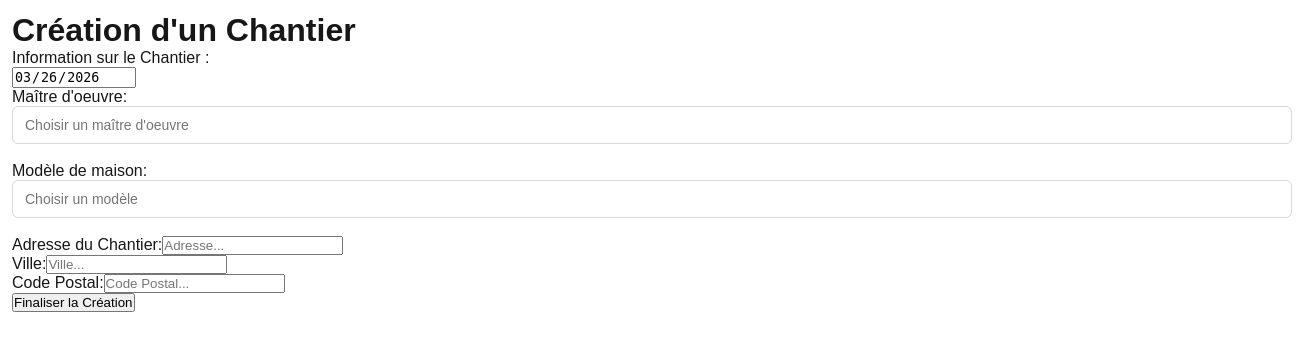
Test: Page de création du chantier › affiche un message d'erreur si champs vide
Click the button "Finaliser la Création": (73, 303) [12,293,134,312]
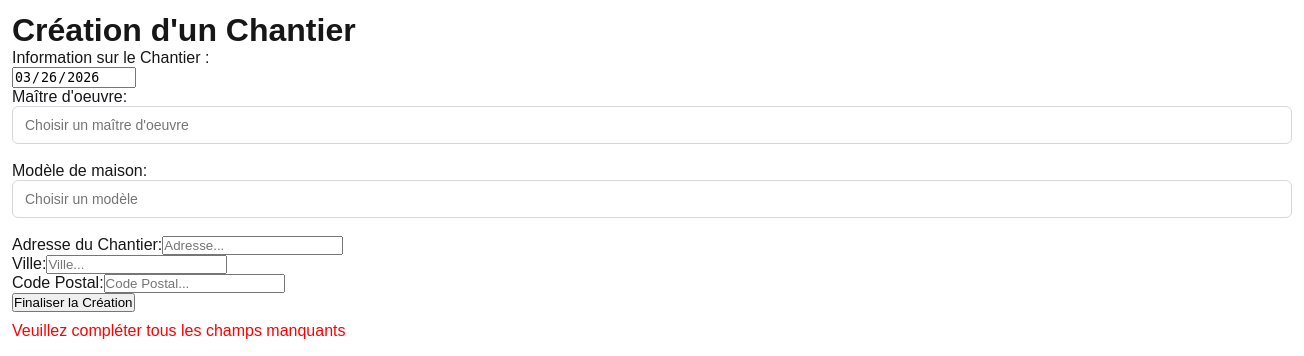
Now the text "Veuillez compléter tous les champs manquants" is shown, box [12,322,346,339]
